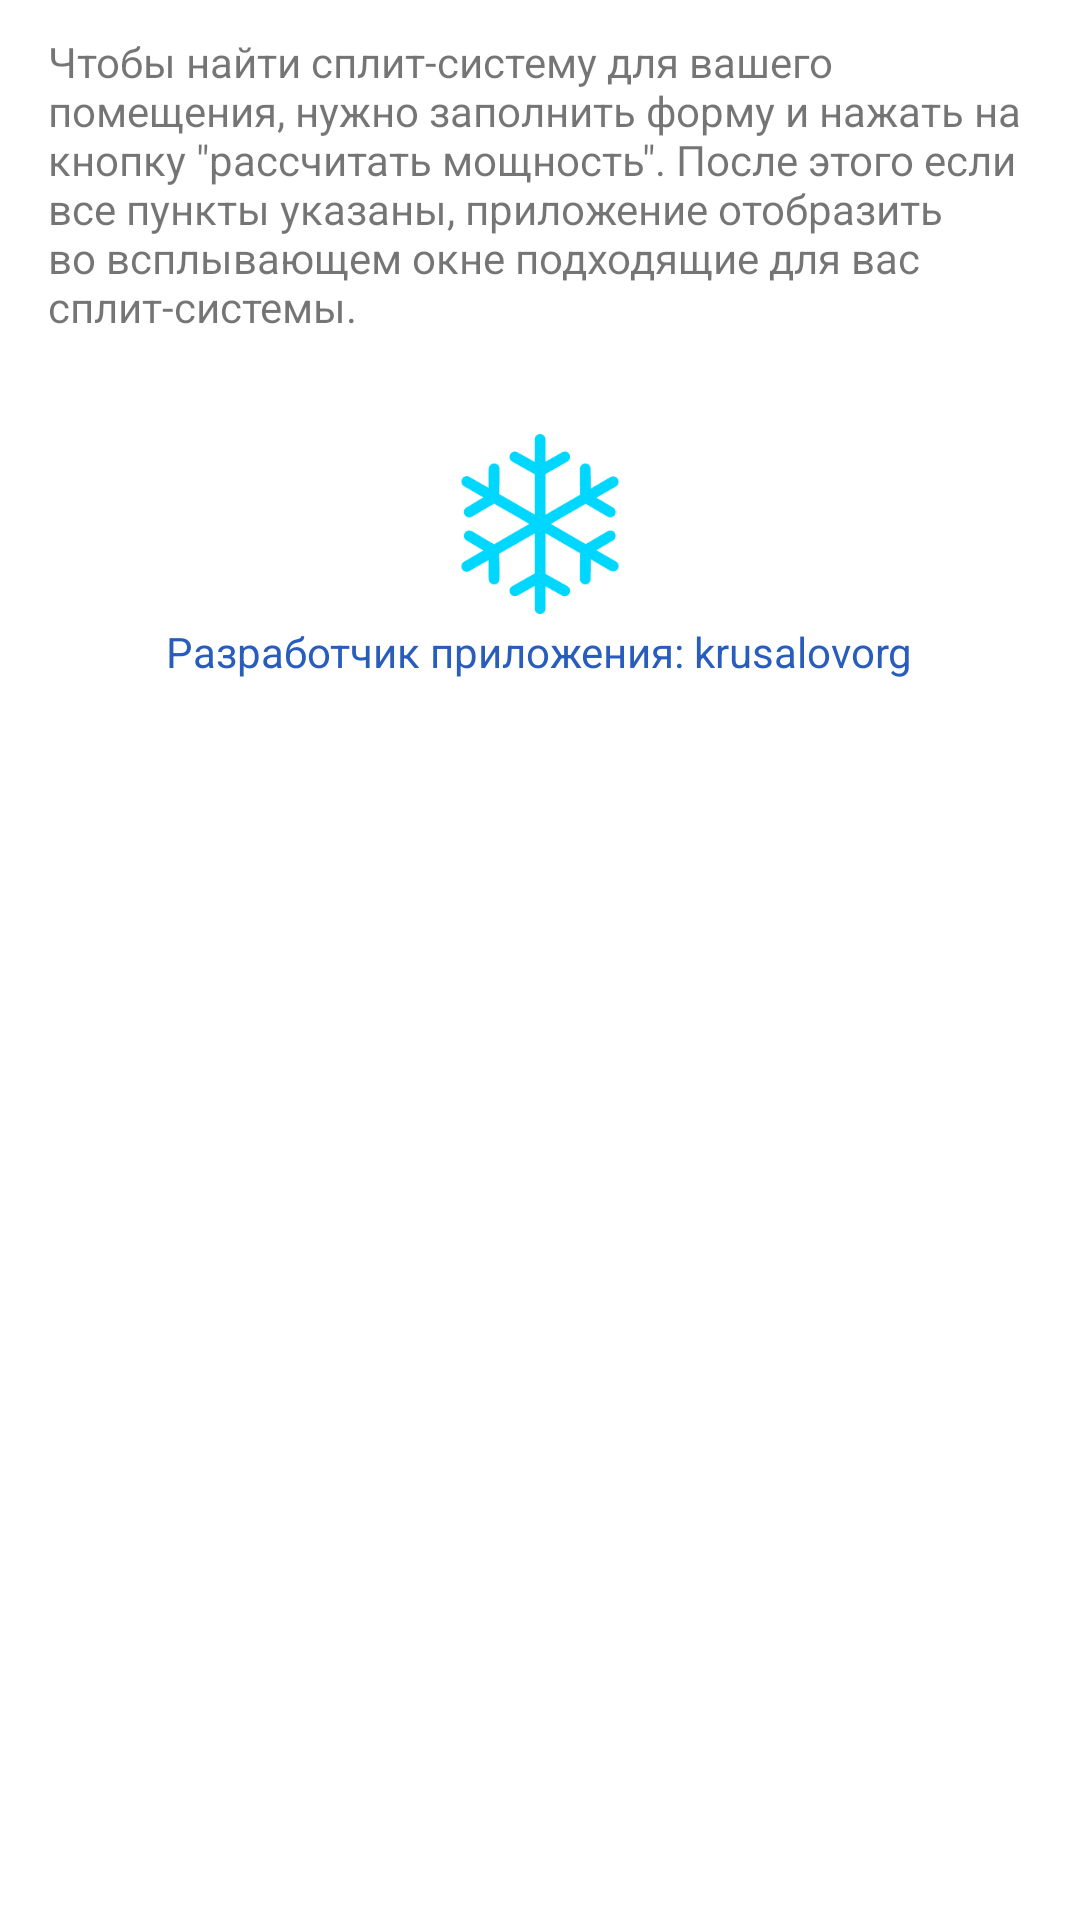

Screen size 1080 × 1920. Icon name, then its center in pixels as (x=x, y=y):
snow: (x=540, y=524)
